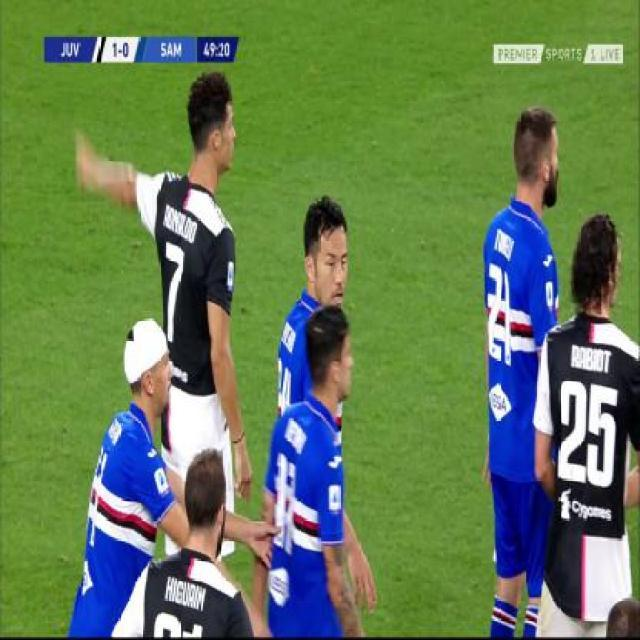player: (479, 84, 561, 637), (533, 201, 636, 634), (259, 256, 367, 630), (156, 70, 249, 501), (63, 315, 174, 640), (119, 444, 251, 640), (275, 197, 355, 406)
